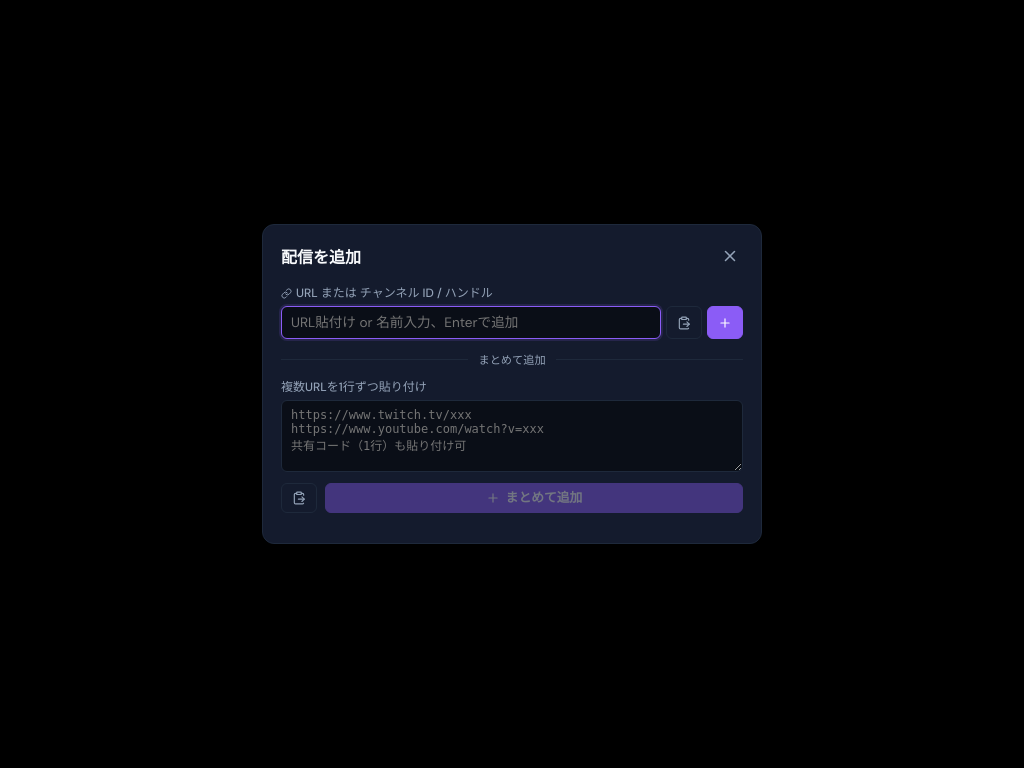
Scenario: ペーストボタン › クリップボードの内容を単一入力欄に入れる
Click the button named "クリップボードから貼り付け" below "URL または チャンネル ID / ハンドル" at (684, 322), box [666,306,702,339]
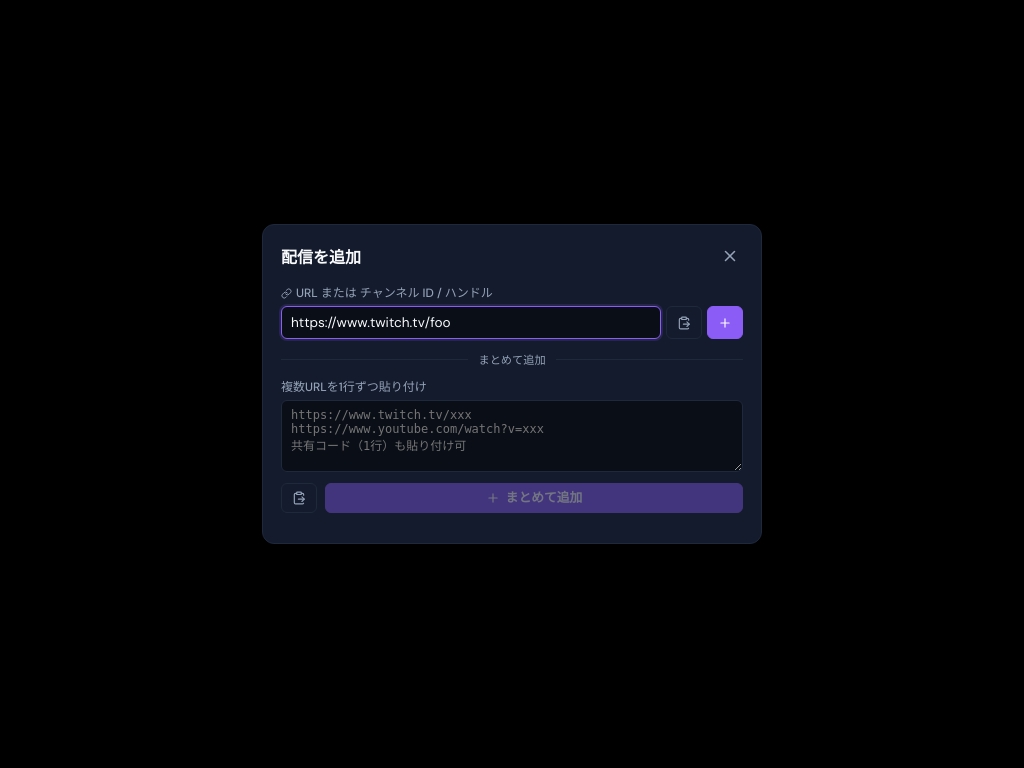
Result: the field with class "form-input" holds "https://www.twitch.tv/foo" at [281,306,661,339]
